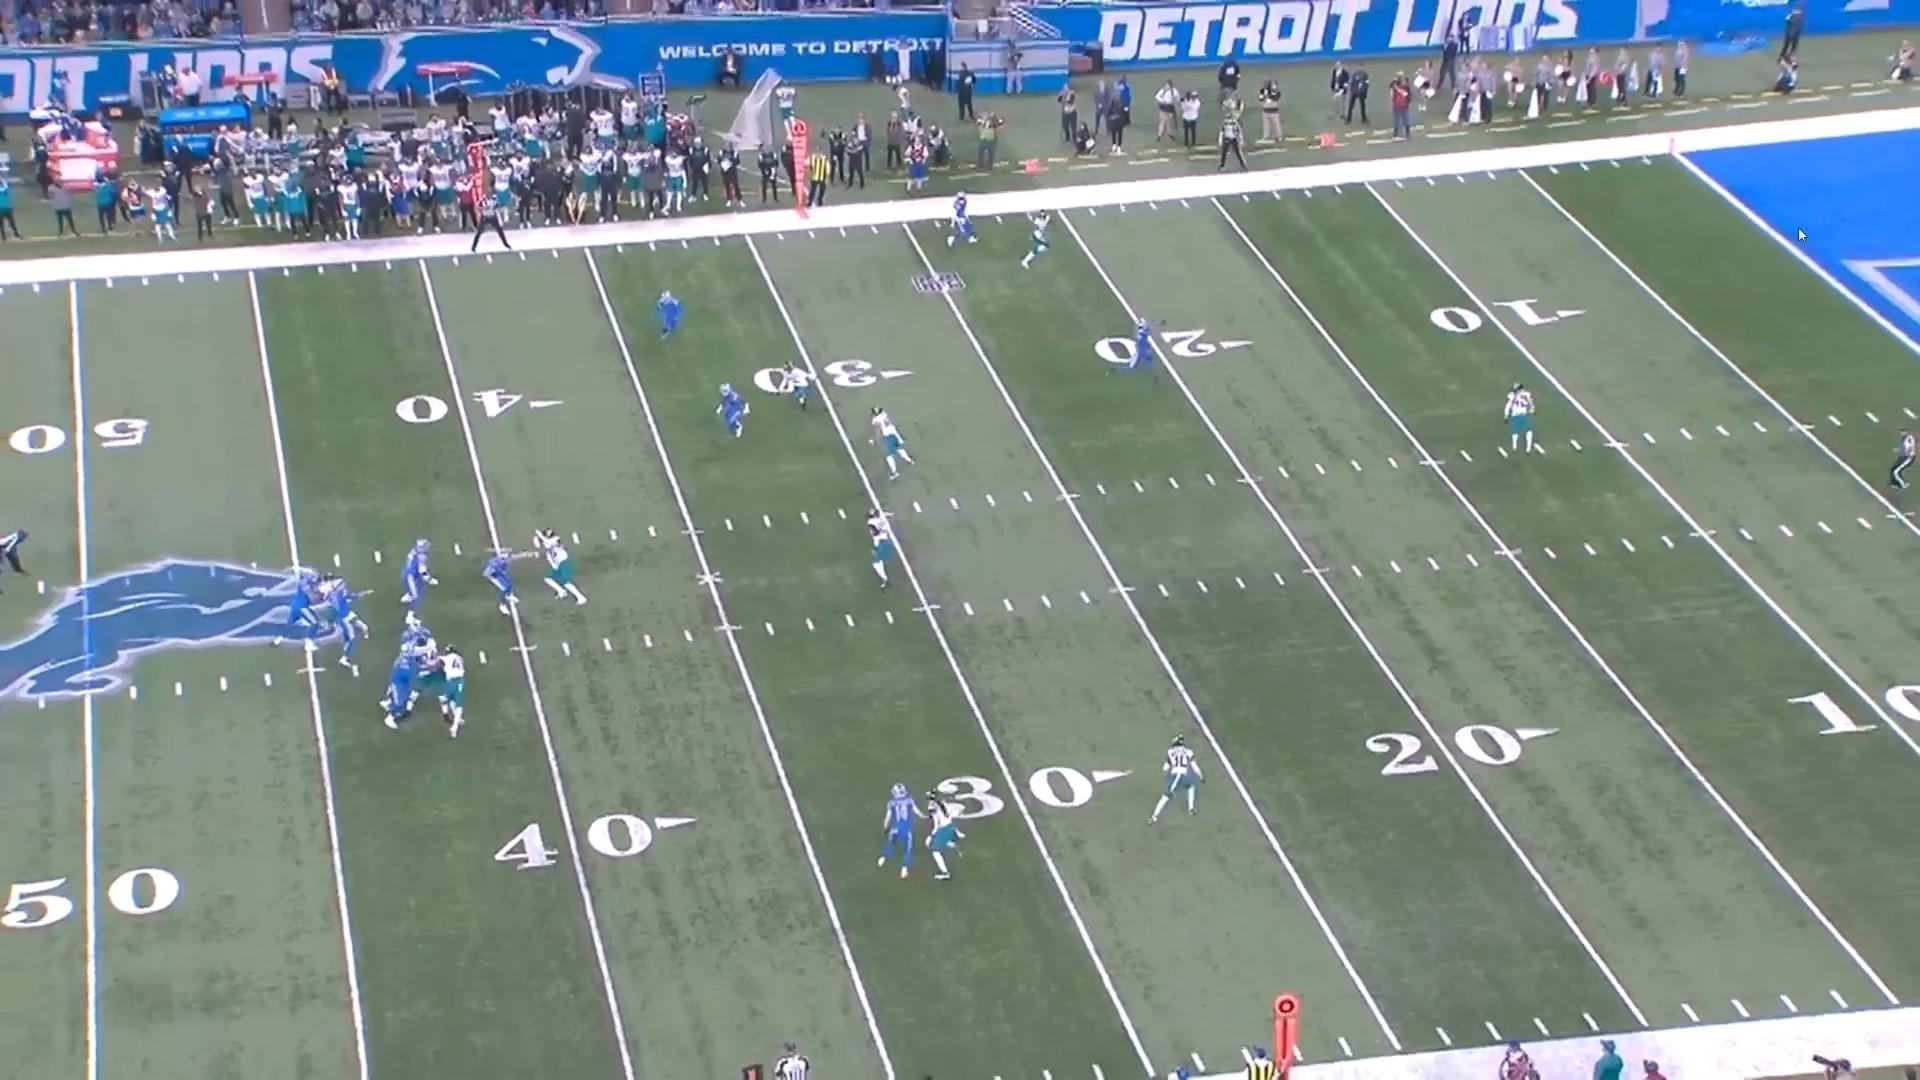10R: (1787, 680, 1920, 734), (1426, 297, 1590, 333)
20R: (1363, 722, 1560, 775), (1092, 329, 1254, 366)
30R: (936, 764, 1134, 822), (750, 357, 915, 394)
40R: (492, 812, 699, 873), (397, 388, 567, 426)
50: (0, 868, 178, 930), (10, 417, 148, 454)
